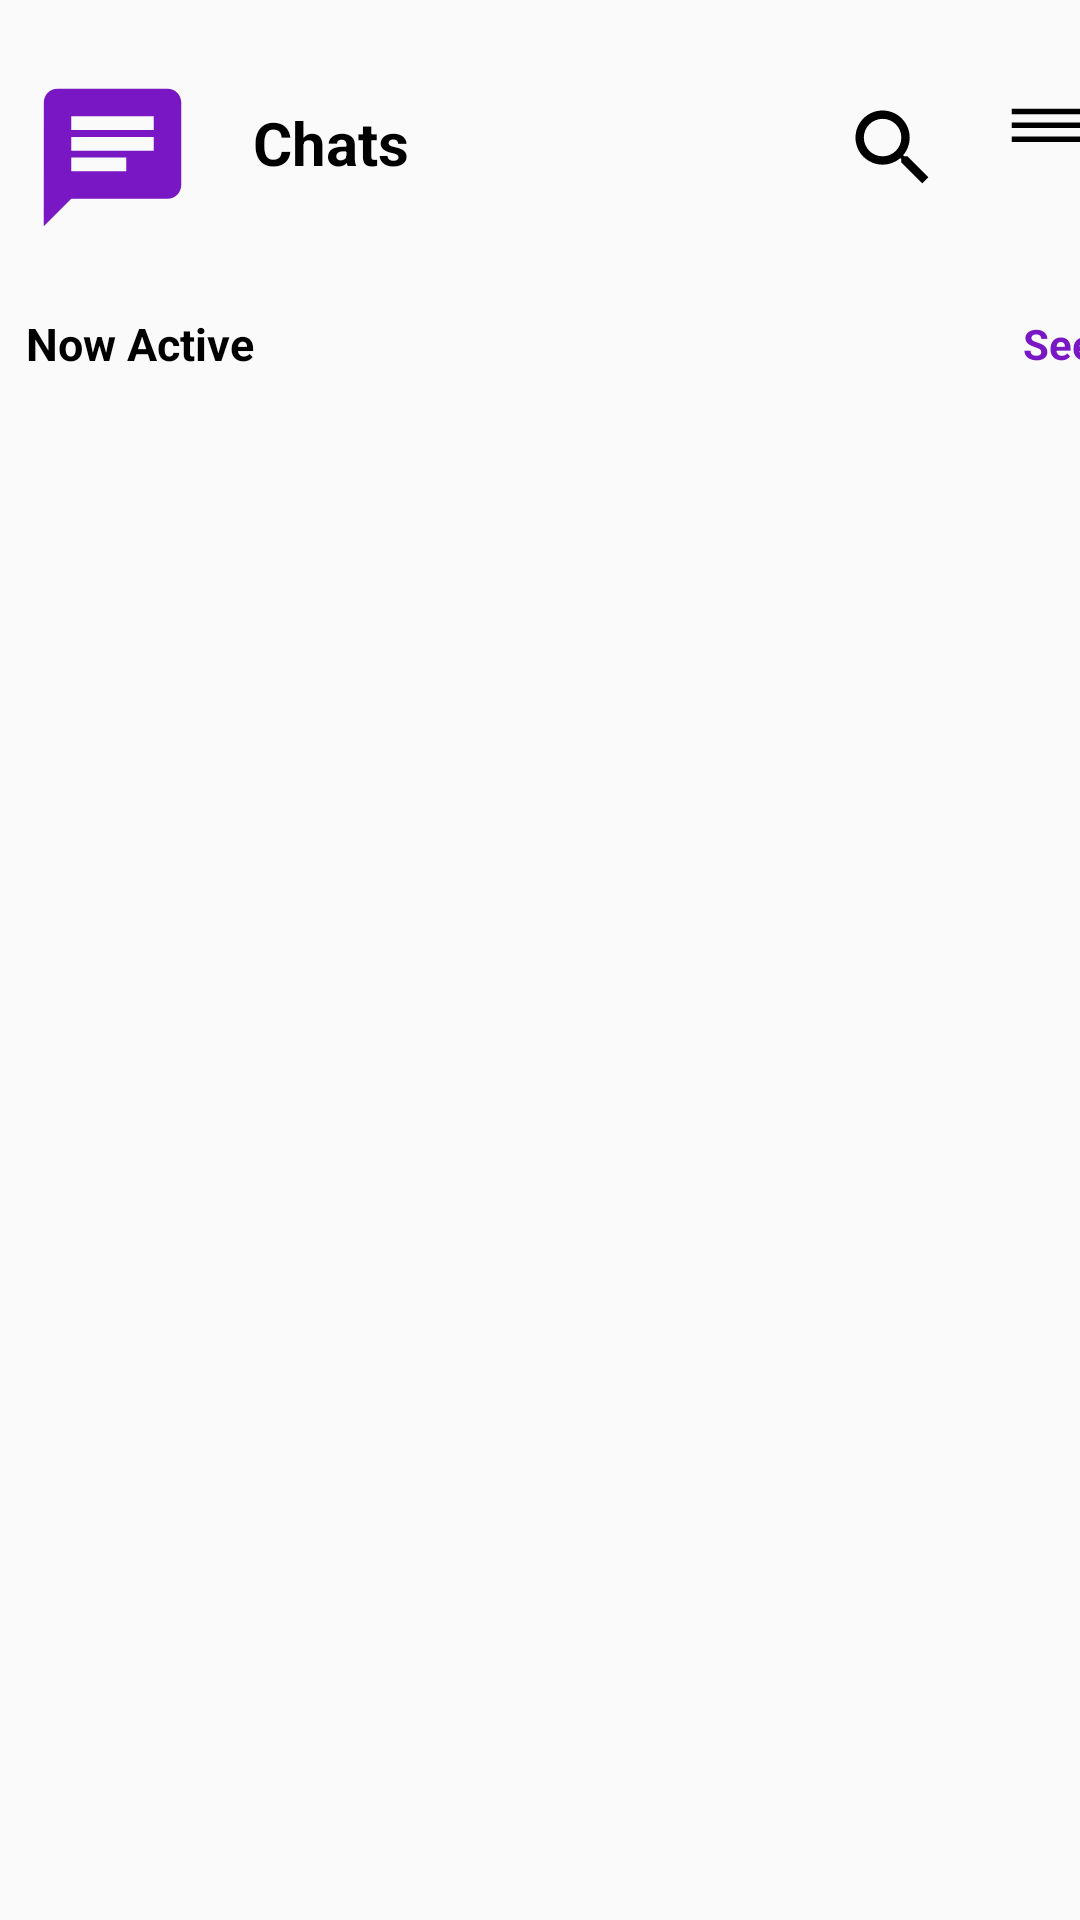

Locate icon controls on the screen. Image size 1080x1920, boxes as {"left": x1, "top": y1, "right": x2, "bottom": y2}.
search: {"left": 855, "top": 110, "right": 929, "bottom": 184}
